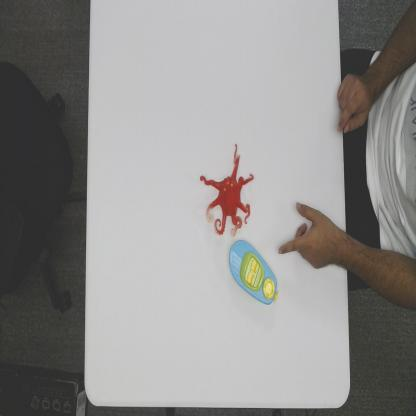Boat: (229, 238, 280, 308)
Hand: (278, 200, 345, 271)
Octopus: (198, 141, 255, 239)
